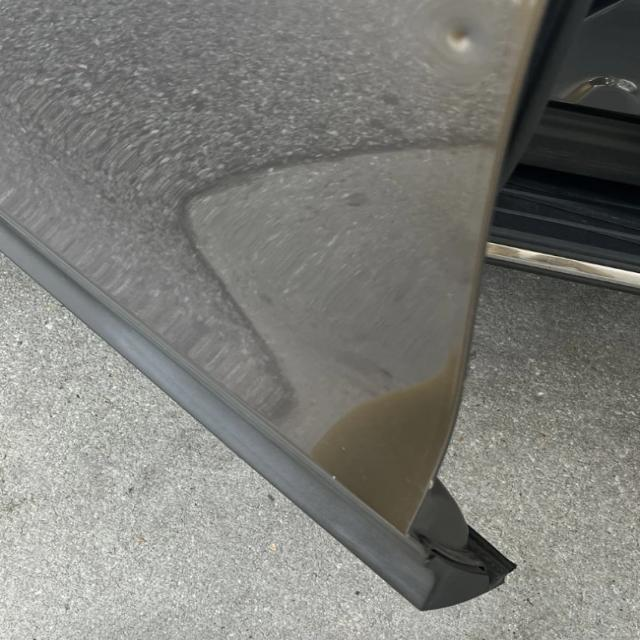dents: (424, 7, 512, 75)
